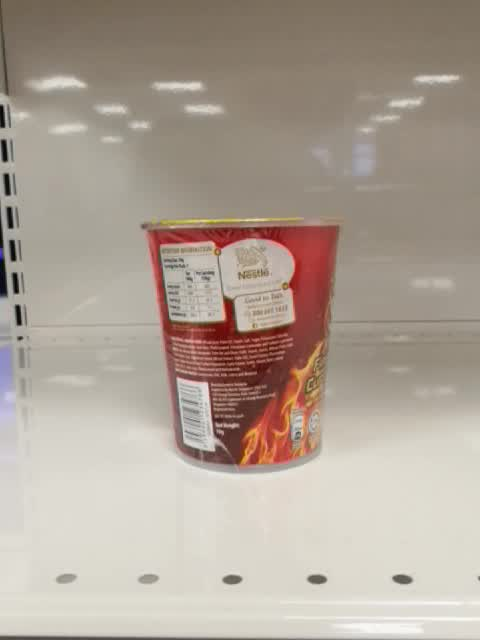maggi: (139, 215, 345, 475)
